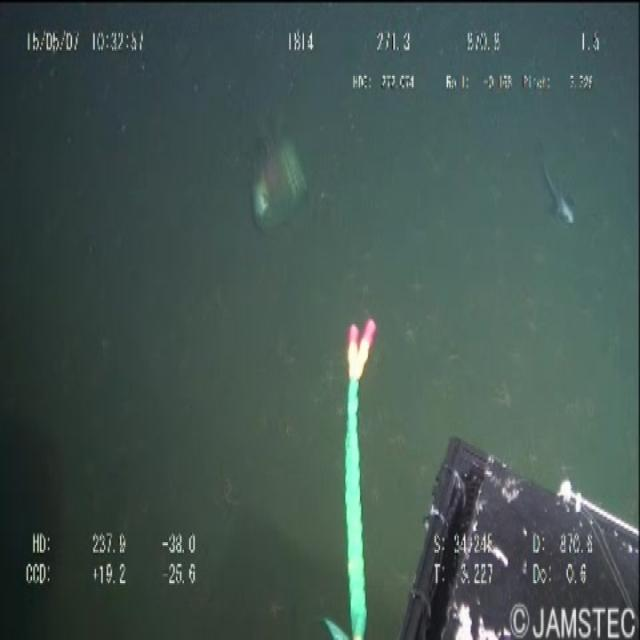Litter: (241, 123, 342, 267)
